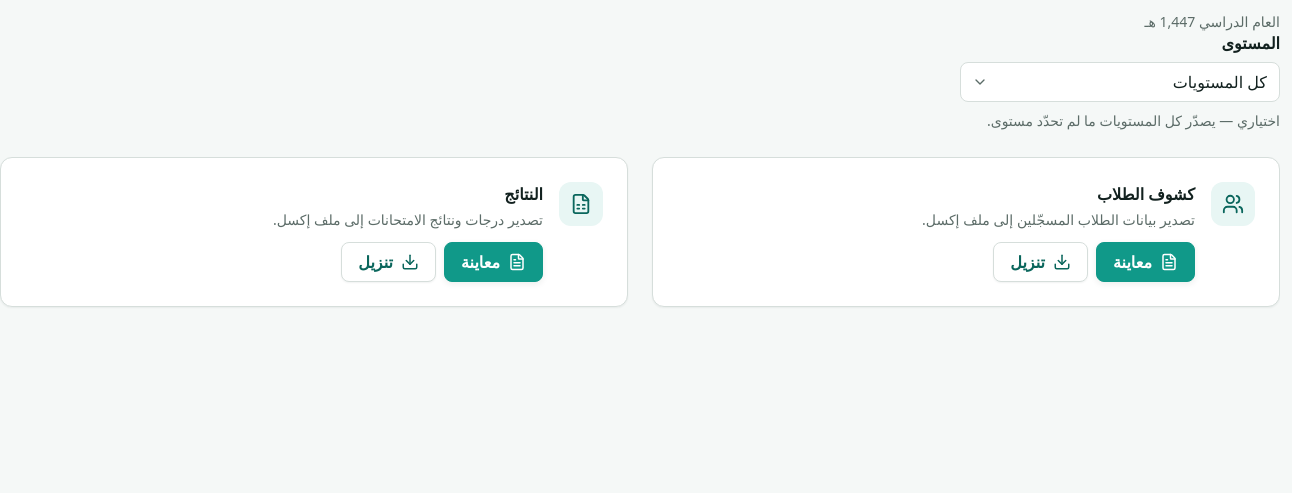
Scenario: ExportsPage › shows the rows that would be exported, one table per gender sheet
Expected: the heading "كشوف الطلاب" is shown, [1097, 183, 1195, 205]
Click the button "معاينة" below "كشوف الطلاب" at (1146, 262), box [1096, 242, 1195, 282]
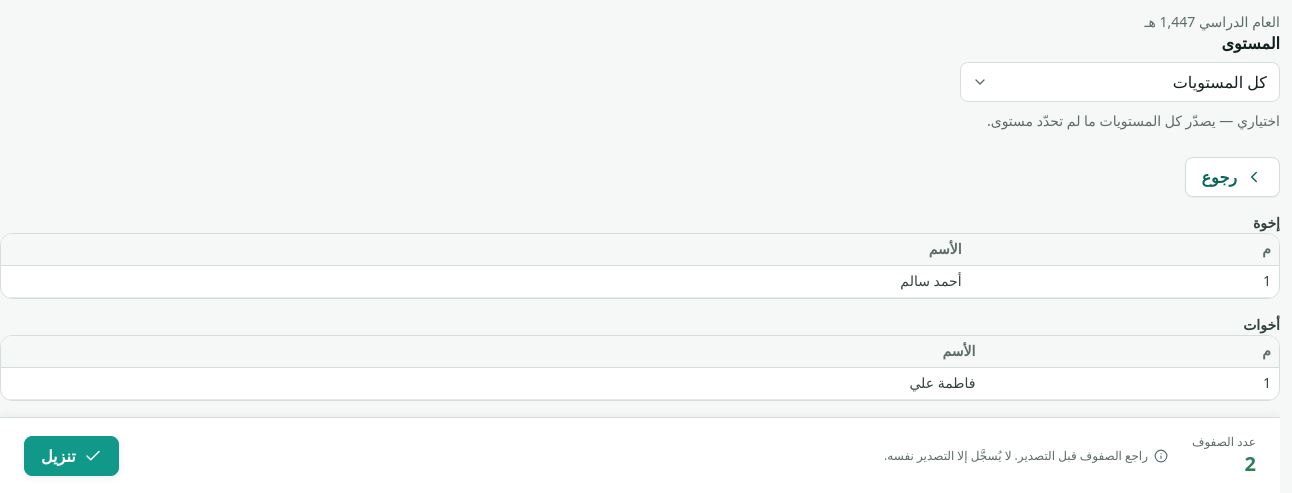
Now the heading "إخوة" is shown, box [1253, 213, 1280, 232]
Now the heading "أخوات" is shown, box [1243, 315, 1280, 334]
Now the text "أحمد سالم" is shown, box [1, 266, 970, 298]
